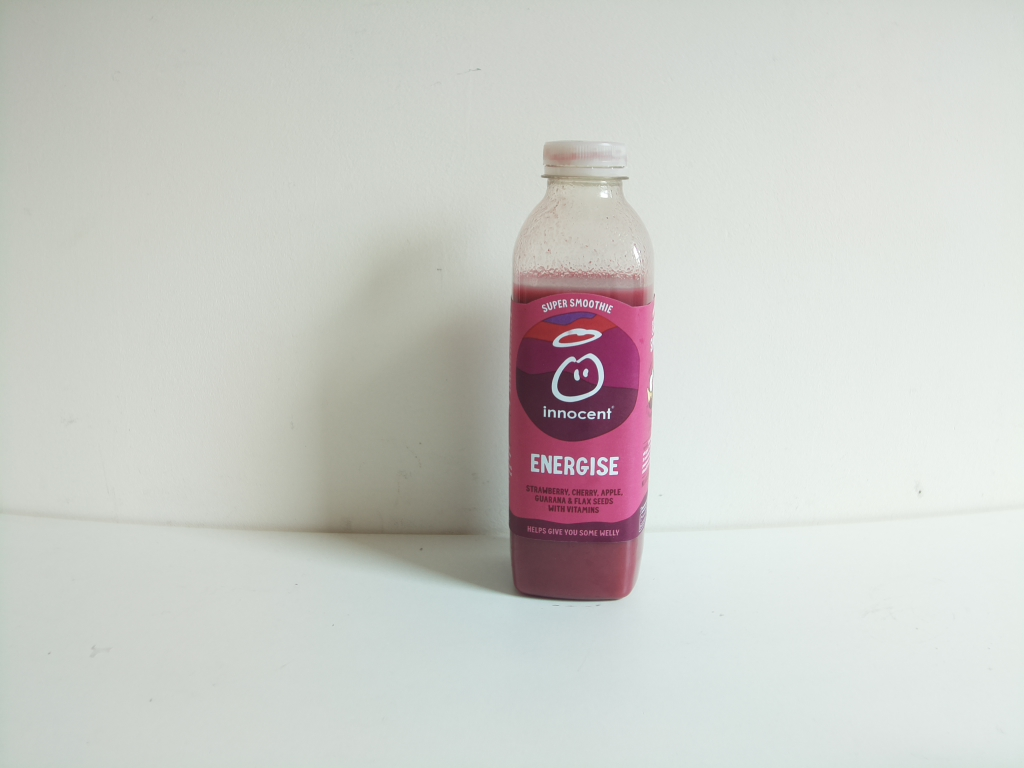juice: (501, 128, 668, 614)
